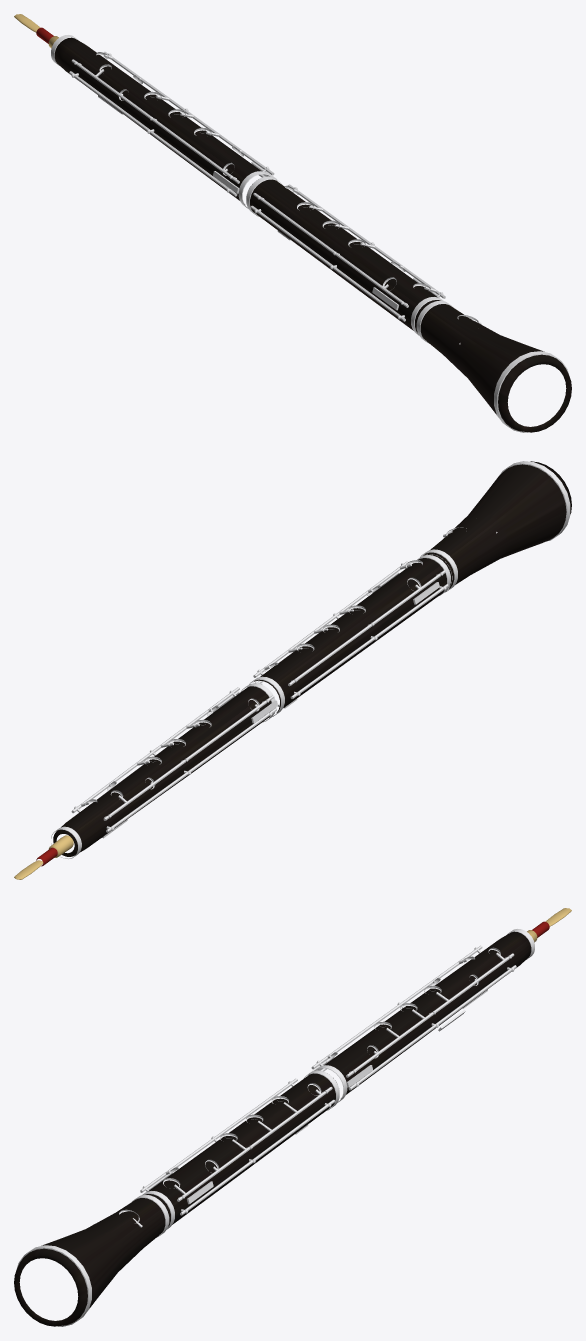
The model's file is oboe.glb.
3 views of the same model, one above another, from view 1: azimuth 30°, elevation 25°; view 2: azimuth 150°, elevation 25°; view 3: azimuth 330°, elevation 25° (orthographic).
Visible parts, largest first — view 1: oboe_grenadilla, oboe_silver; view 2: oboe_grenadilla, oboe_silver, oboe_cane; view 3: oboe_grenadilla, oboe_silver.
Boxes of the visible parts, <box> form: oboe_grenadilla: <box>54,37,571,432</box>; oboe_silver: <box>51,35,569,432</box>; oboe_grenadilla: <box>53,461,571,856</box>; oboe_silver: <box>51,461,570,858</box>; oboe_cane: <box>14,835,73,879</box>; oboe_grenadilla: <box>14,931,531,1326</box>; oboe_silver: <box>16,929,534,1326</box>.
Size of the model in its own units: 0.0527 by 0.0532 by 0.65.
Materials: 4 (1 with a texture image).
